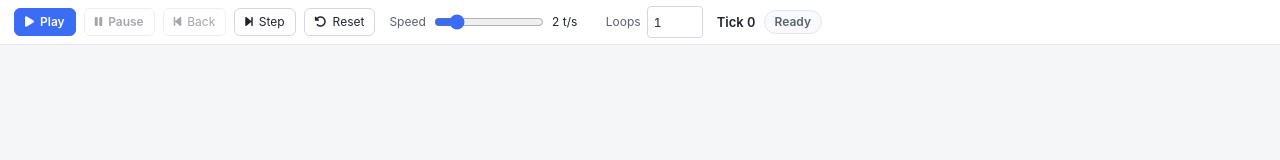
Test: run mode components › RunToolbar › changes the speed
Set the slider named "Speed in ticks per second" to "5" at point(486, 22), box [434, 14, 544, 30]
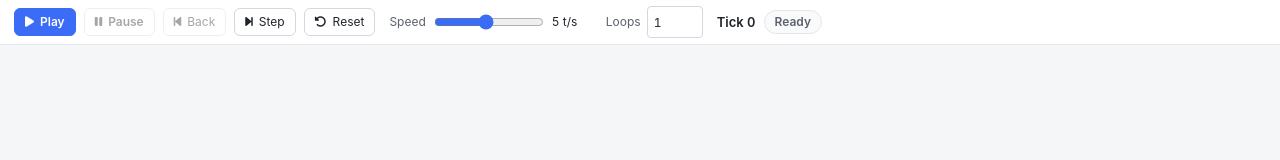
Now the text "5 t/s" is shown, box [552, 14, 577, 29]
